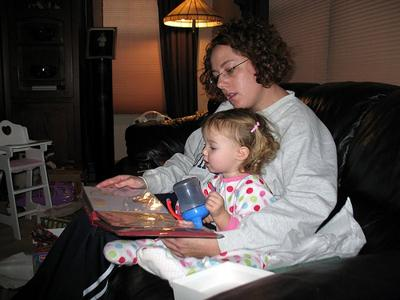person: (2, 15, 368, 300)
